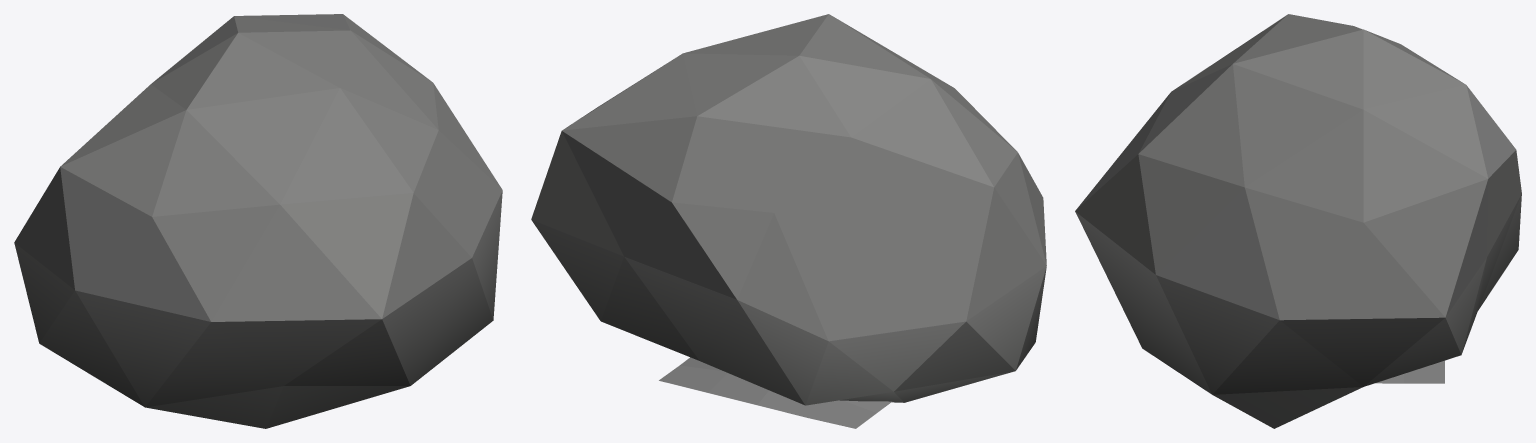
Rendered from rock-shore-1.glb.
3 views of the same model, side by side, from view 1: azimuth 30°, elevation 25°; view 2: azimuth 150°, elevation 25°; view 3: azimuth 270°, elevation 25° (orthographic). The views are drawn at different scales.
Parts seen in each view (by area): view 1: rock-shore-1; view 2: rock-shore-1, rock-shore-1-moss1; view 3: rock-shore-1, rock-shore-1-moss1.
Part boxes in pixels (x1,y1,x2,y2): rock-shore-1: (14, 14, 502, 428); rock-shore-1: (531, 14, 1046, 405); rock-shore-1-moss1: (659, 357, 891, 428); rock-shore-1: (1075, 14, 1521, 428); rock-shore-1-moss1: (1375, 360, 1444, 383).
Bounding box in the file's own units: 1.98 × 1.55 × 1.79.
Materials: 2 (2 with a texture image).
